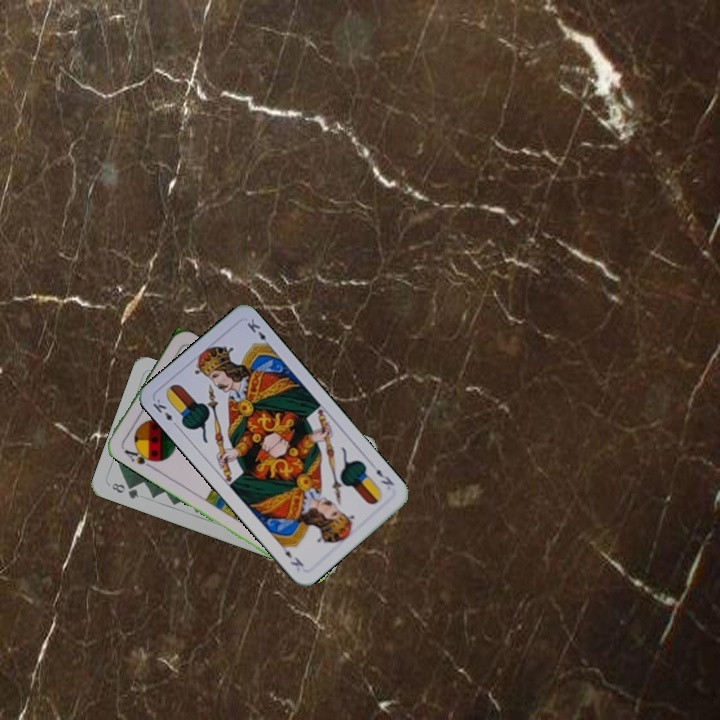EK: (148, 395, 181, 430), (372, 465, 397, 488)
G8: (107, 479, 141, 501)
SA: (120, 443, 157, 470)
